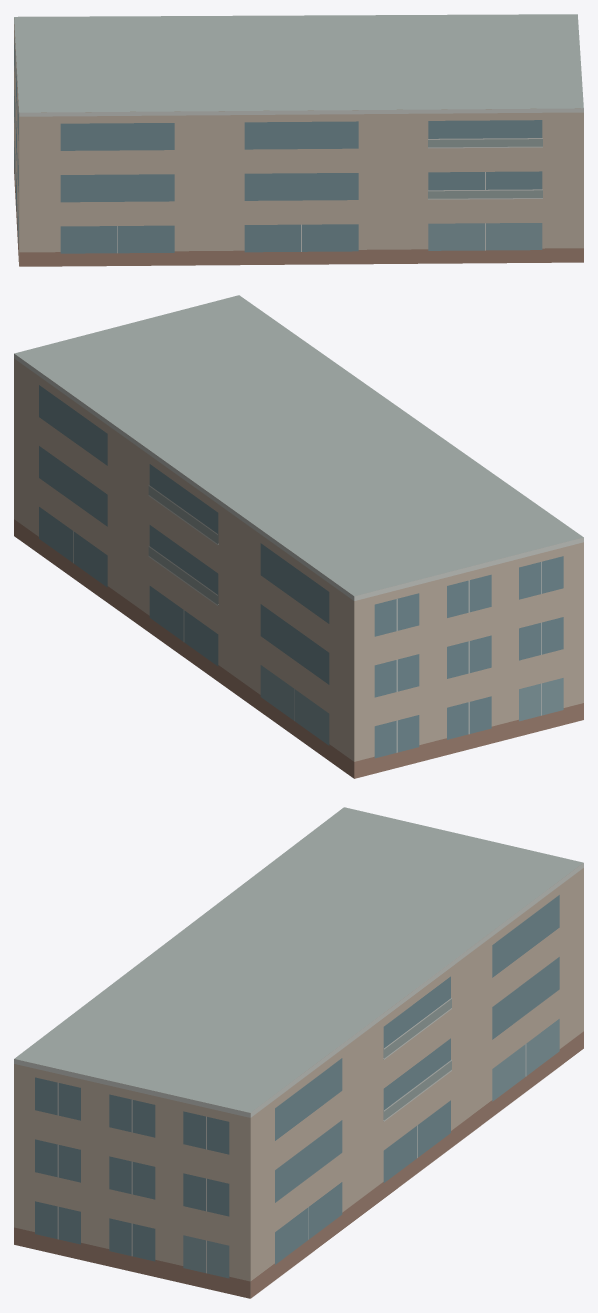
The model's file is survey-upis-32857236.glb.
The picture shows the model from 3 angles, top to bottom: view 1: azimuth 30°, elevation 25°; view 2: azimuth 150°, elevation 25°; view 3: azimuth 270°, elevation 25°; orthographic projection. The views are drawn at different scales.
Parts seen in each view (by area): view 1: survey-upis-32857236.tmp; view 2: survey-upis-32857236.tmp; view 3: survey-upis-32857236.tmp.
Part boxes in pixels (left/top/right/bottom): survey-upis-32857236.tmp: left=14, top=14, right=583, bottom=266; survey-upis-32857236.tmp: left=14, top=295, right=583, bottom=778; survey-upis-32857236.tmp: left=14, top=807, right=583, bottom=1298.
Size of the model in its own units: 32.31 by 9.15 by 25.44.
